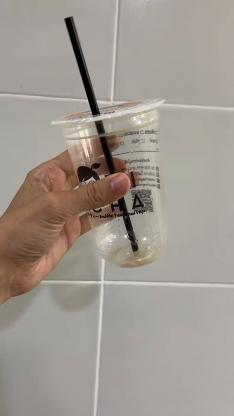Plastic Cup: (52, 97, 170, 267)
